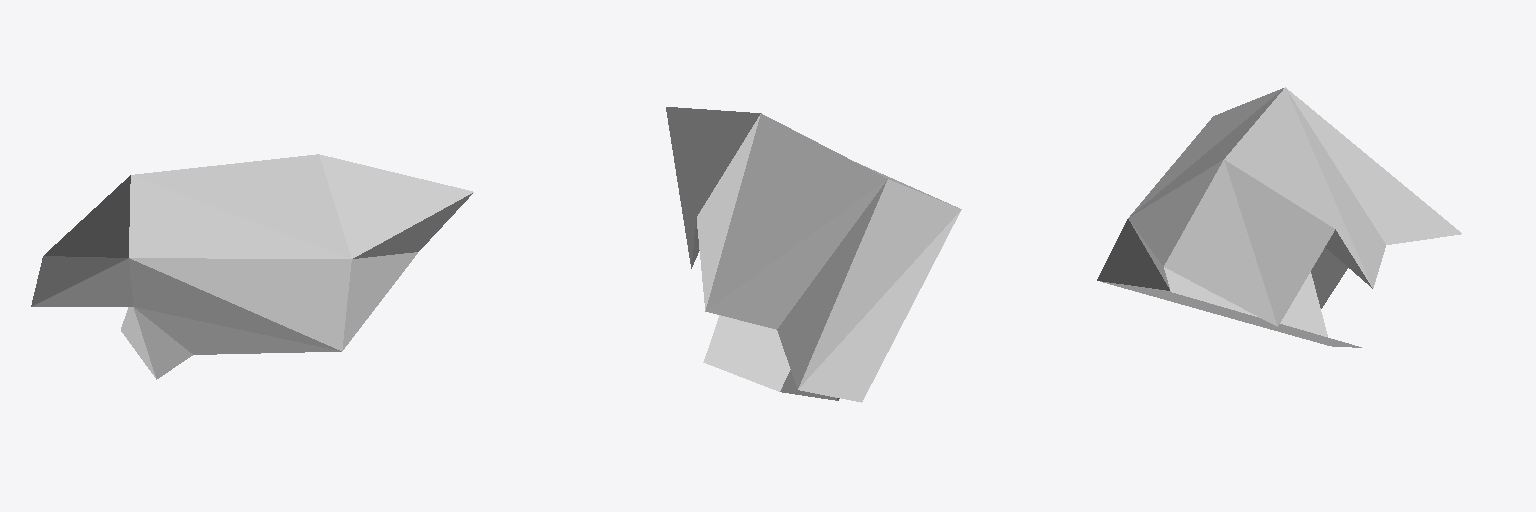
The model's file is crumpledPaper03_mesh.obj.
The picture shows the model from 3 angles: view 1: azimuth 30°, elevation 25°; view 2: azimuth 150°, elevation 25°; view 3: azimuth 270°, elevation 25°; orthographic projection.
Visible parts, largest first — view 1: crumpedPaper_03; view 2: crumpedPaper_03; view 3: crumpedPaper_03.
Part boxes in pixels (left/top/right/bottom): crumpedPaper_03: left=31, top=154, right=473, bottom=379; crumpedPaper_03: left=666, top=107, right=961, bottom=402; crumpedPaper_03: left=1097, top=87, right=1461, bottom=347.
Size of the model in its own units: 0.0955 by 0.0646 by 0.0943.